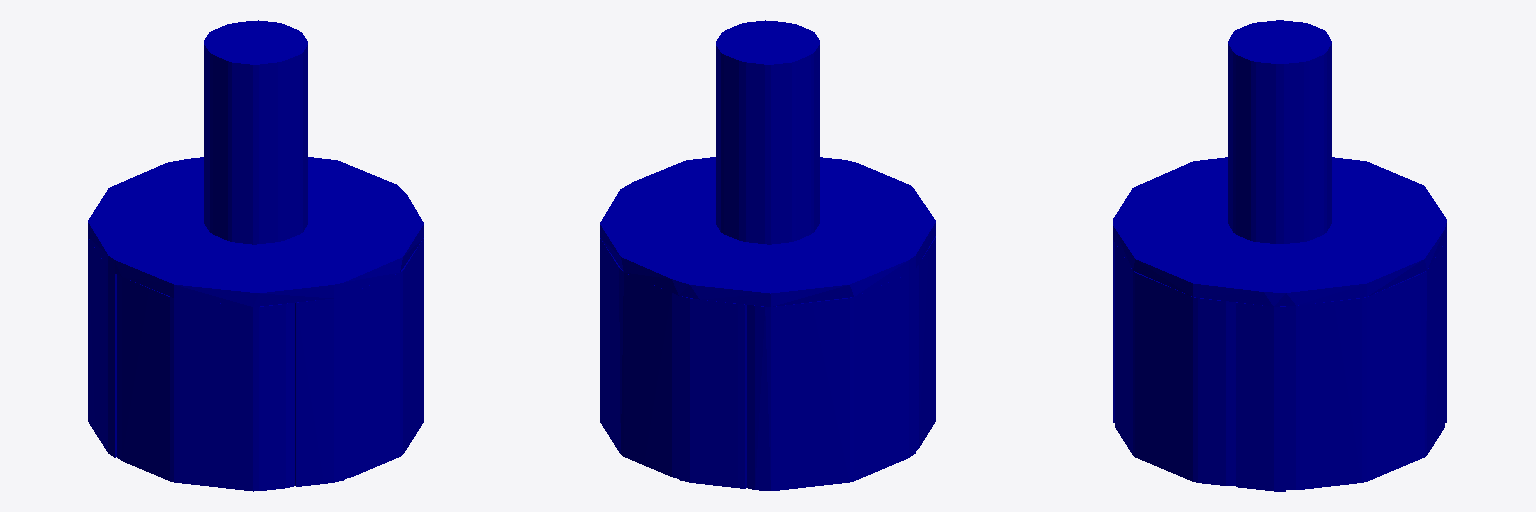
robot.urdf — cylinder3:
<?xml version="0.0" ?>
<robot name="cylinder3">
  <link name="Link">
  <contact>
      <lateral_friction value="1"/>
  </contact>
    <inertial>
      <origin rpy="0 0 0" xyz="0 0 0"/>
       <mass value="1"/>
       <inertia ixx="1e-2" ixy="0" ixz="0" iyy="1e-2" iyz="0" izz="1e-2"/>
    </inertial>
    <visual>
      <origin rpy="0 0 0" xyz="0 0 0"/>
      <geometry>
		<mesh filename="cylinder3.obj" scale="1 1 1"/>
      </geometry>
       <material name="white">
        <color rgba="0.0 0.0 0.7 1"/>
      </material>
    </visual>
    <collision>
      <origin rpy="0 0 0" xyz="0 0 0"/>
      <geometry>
	 	<mesh filename="cylinder3.obj" scale="1 1 1"/>
      </geometry>
    </collision>
  </link>
</robot>

--- What the picture shows (computed from the rendered views, not written in the file) ---
The picture shows the robot from 3 angles, left to right: view 1: azimuth 30°, elevation 25°; view 2: azimuth 150°, elevation 25°; view 3: azimuth 270°, elevation 25°; orthographic projection.
Model cylinder3 with 1 links and 0 joints (none), rooted at Link, posed all joints at 0.
Visible links, largest first — view 1: Link; view 2: Link; view 3: Link.
Link boxes in pixels (x1,y1,x2,y2): Link: (88,20,423,491); Link: (600,20,935,490); Link: (1113,20,1446,491).
Bounding box of the posed robot: 0.1008 × 0.1008 × 0.1258 m (x, y, z).
1 mesh visuals loaded from 1 distinct referenced files (1 OBJ).